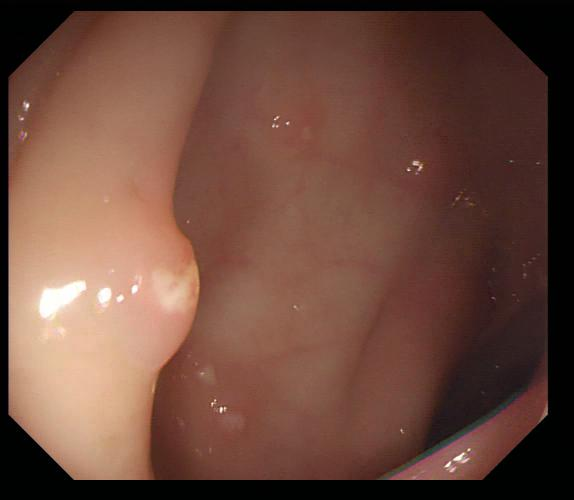polyp: (141, 220, 200, 366), (275, 107, 322, 157), (214, 399, 256, 442)
